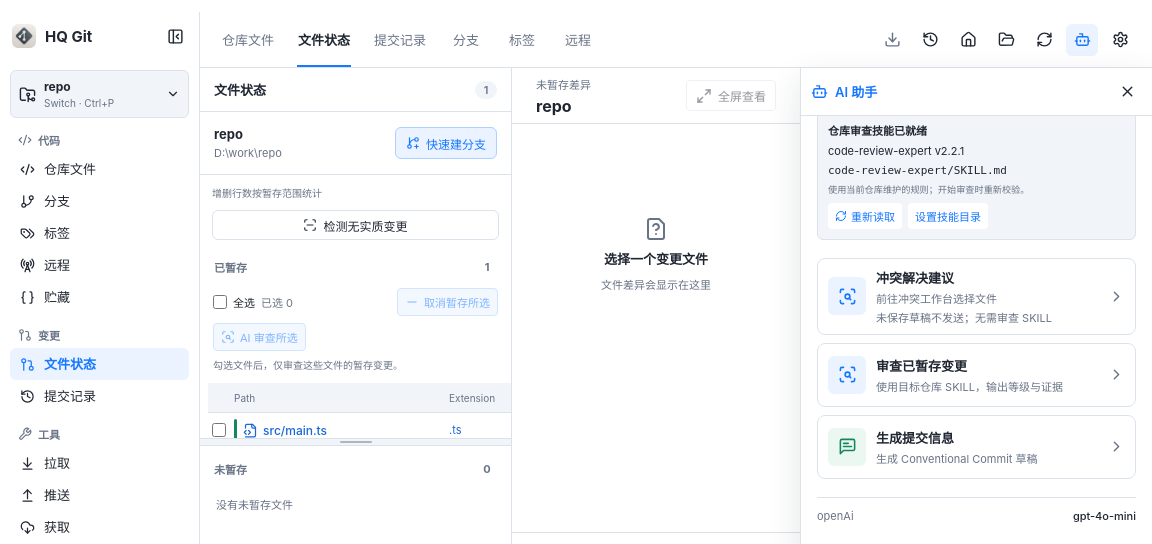
AI drawer workflows › does not apply an invalid or cancelled commit preview
(page scrolled)
What coordinates should you click on to do the following:
click the button with aria-label "生成已暂存提交信息"
I would click on:
 (847, 447)
Its box is [817,415,1136,479].
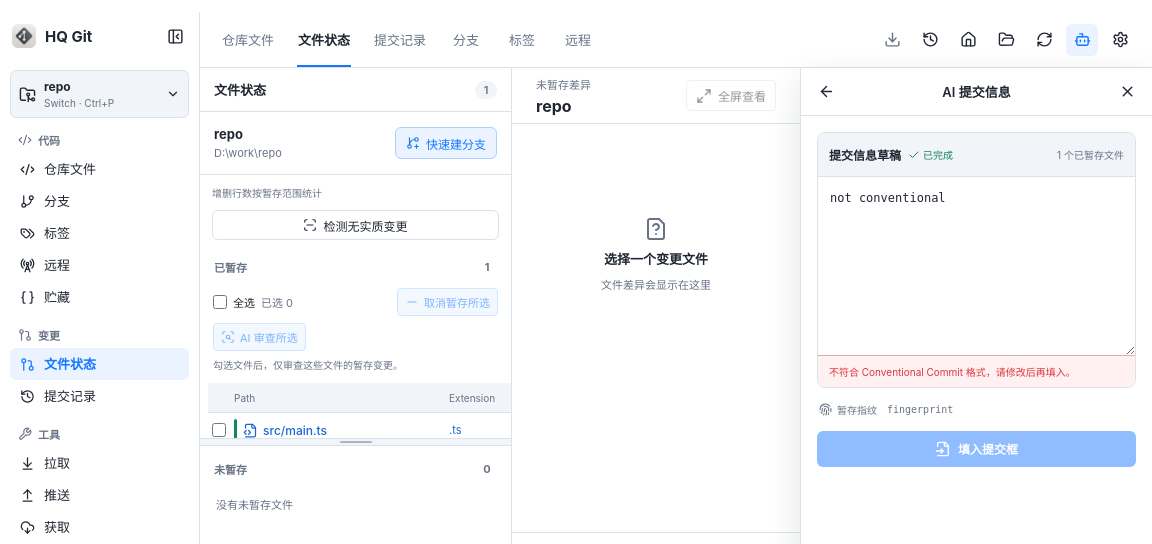
expect the text "不符合 Conventional Commit 格式" is shown: met, box [829,366,1076,378]
